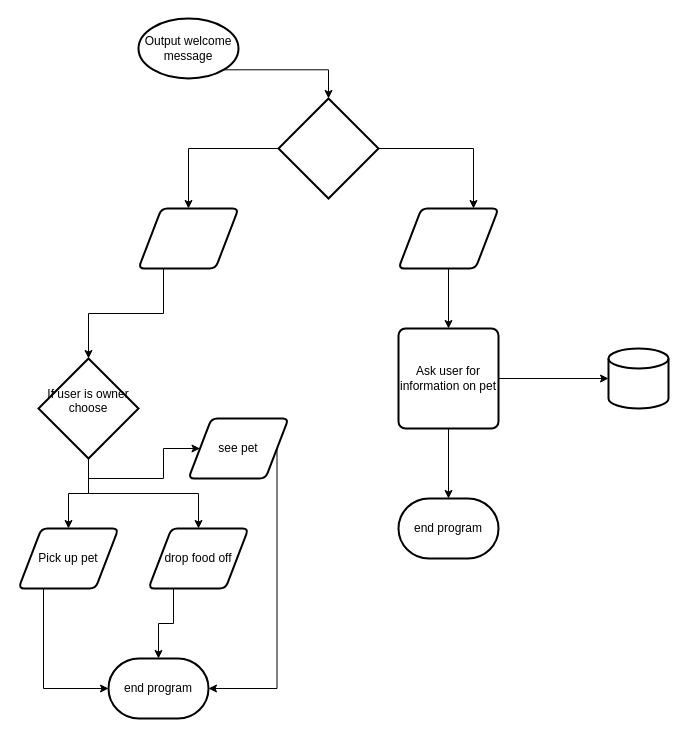
This 686x736 diagram has some shape labels left out. Each missing label, with the box of its shape:
Check if pet is checked in: (277, 97, 379, 199)
No it isnt: (397, 207, 499, 269)
Store pet data: (607, 347, 669, 409)
Yes it is: (137, 207, 239, 269)
